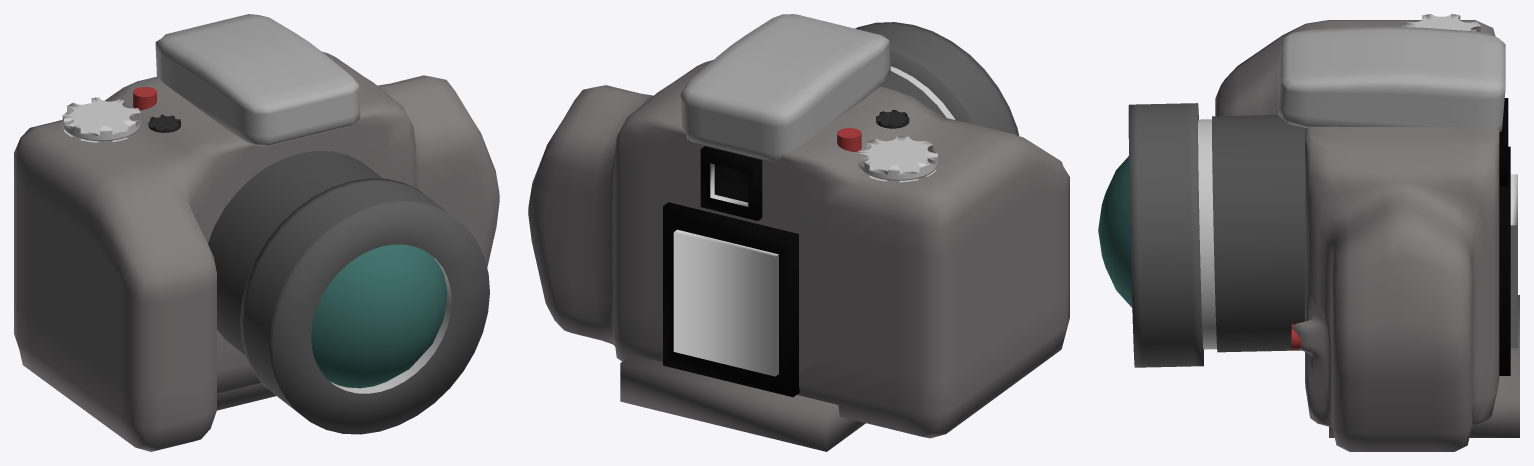
File: Camera.fbx
3 views of the same model, side by side, from view 1: azimuth 30°, elevation 25°; view 2: azimuth 150°, elevation 25°; view 3: azimuth 270°, elevation 25° (orthographic). The views are drawn at different scales.
Visible parts, largest first — view 1: camra_Boole_camer_body, camra_lense_Boole1_Cylinder_, camra_flash, camra_lense_Sphere, camra_lense, camra_nob_Cylinder_, camra_lense_Boole1_Cylinder_1, trypod_Cube, camra_Cylinder1, camra_nob_Cylinder_1; view 2: camra_Boole_camer_body, camra_flash, camra_Boole_camer_body_window_, trypod_Cube, camra_Boole_camer_body_window_1, camra_lense_Boole1_Cylinder_, camra_Boole_camer_body_window, camra_nob_Cylinder_, camra_lense, camra_Cylinder1; view 3: camra_Boole_camer_body, camra_flash, camra_lense, camra_lense_Boole1_Cylinder_, camra_lense_Sphere, camra_lense_Cylinder_, camra_Boole_camer_body_window_1, trypod_Cube, camra_Boole_camer_body_window_, camra_nob_Cylinder_, camra_Boole_camer_body_window.
Part boxes in pixels (x1,y1,x2,y2): camra_Boole_camer_body: [14, 51, 499, 451]; camra_lense_Boole1_Cylinder_: [240, 178, 489, 434]; camra_flash: [155, 14, 360, 146]; camra_lense_Sphere: [311, 244, 447, 388]; camra_lense: [208, 151, 383, 355]; camra_nob_Cylinder_: [62, 97, 140, 141]; camra_lense_Boole1_Cylinder_1: [330, 258, 451, 393]; trypod_Cube: [217, 383, 275, 410]; camra_Cylinder1: [133, 87, 156, 110]; camra_nob_Cylinder_1: [148, 114, 180, 132]; camra_Boole_camer_body: [528, 60, 1069, 438]; camra_flash: [680, 14, 890, 162]; camra_Boole_camer_body_window_: [673, 229, 778, 376]; trypod_Cube: [620, 354, 865, 451]; camra_Boole_camer_body_window_1: [663, 202, 799, 397]; camra_lense_Boole1_Cylinder_: [855, 22, 1019, 135]; camra_Boole_camer_body_window: [700, 146, 762, 220]; camra_nob_Cylinder_: [858, 136, 937, 180]; camra_lense: [881, 71, 946, 117]; camra_Cylinder1: [837, 128, 861, 151]; camra_Boole_camer_body: [1215, 20, 1499, 451]; camra_flash: [1278, 26, 1505, 132]; camra_lense: [1212, 115, 1305, 352]; camra_lense_Boole1_Cylinder_: [1128, 103, 1203, 367]; camra_lense_Sphere: [1098, 156, 1132, 307]; camra_lense_Cylinder_: [1198, 119, 1216, 349]; camra_Boole_camer_body_window_1: [1499, 146, 1510, 375]; trypod_Cube: [1329, 295, 1519, 437]; camra_Boole_camer_body_window_: [1510, 174, 1517, 348]; camra_nob_Cylinder_: [1401, 14, 1480, 32]; camra_Boole_camer_body_window: [1499, 98, 1508, 186].
Size of the model in its own units: 7.21 by 5.18 by 5.91.
